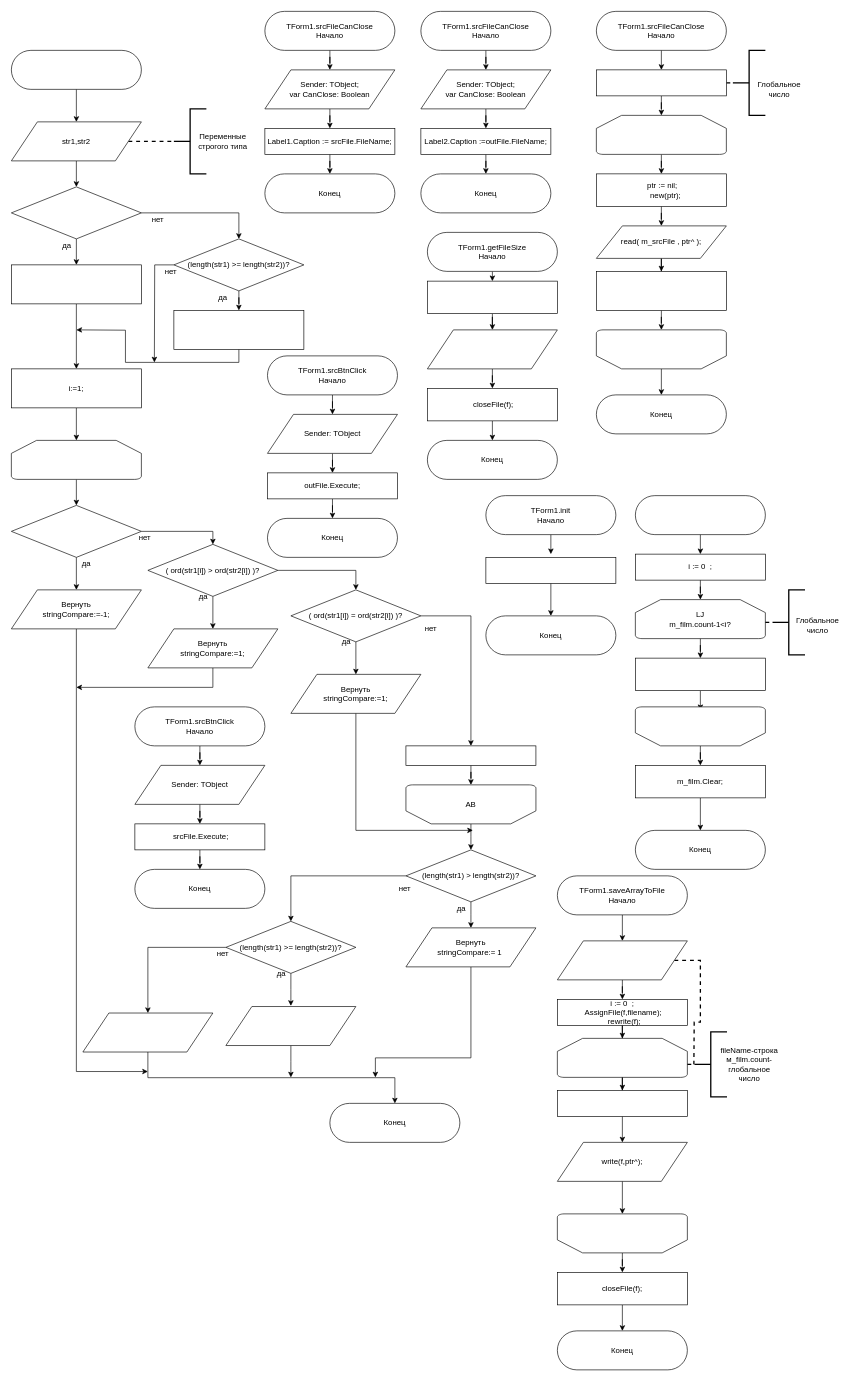
Some shapes in this 855 by 1381 pixel diagram are drawn without their labels. The centre of each missing label's shape, as x and y in pixels:
( ord(str1[i]) < ord(str2[i]) )?: the point at 76,531
(length(str1)<length(str2))?: the point at 76,212
AB i>len: the point at 76,459
AssignFile(f,srcFile.FileName); reset(f);: the point at 492,297
fileName: the point at 622,960
i:=i+1: the point at 470,755
len:=length(str1): the point at 76,284
len:=length(str2);: the point at 238,329
LG: the point at 622,1233
LG m_film.count-1<i?: the point at 622,1057
LJ: the point at 700,726
m_film.Add(ptr); inc(m_pictureReaded);: the point at 661,290
m_onePercent :=10;: the point at 550,570
m_pictureReaded := 0 ;: the point at 661,82
ptr := m_film[i];: the point at 622,1103
ptr:=m_film[i]; dispose(ptr); m_film[i]:=nil;: the point at 700,674
stringCompare Начало: the point at 76,69
TForm1.freeMemory; Начало: the point at 700,515
VB: the point at 661,349
VB (( m_pictureReaded >m_arraySize) AND EOF(m_srcFile) ) )?: the point at 661,134
Вернуть getFileSize:= FileSize(f);: the point at 492,349
вернуть stringCompare:= -1: the point at 290,1026
вернуть stringCompare:= 0 ;: the point at 147,1032
